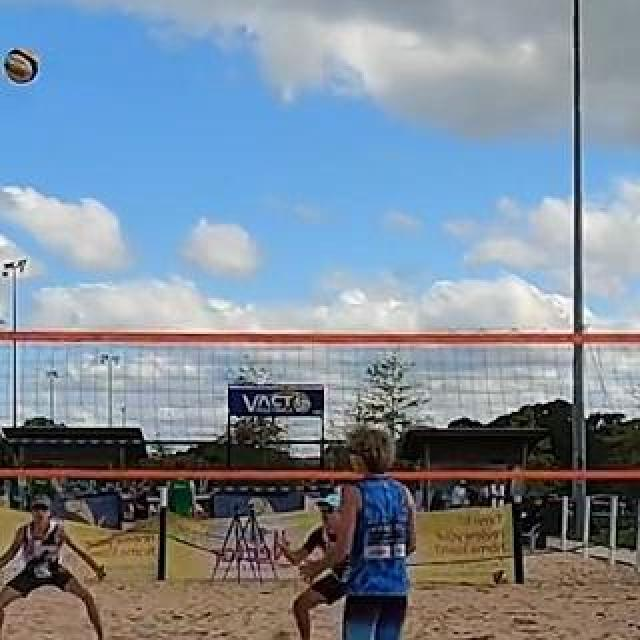volleyball: (4, 50, 38, 84), (493, 569, 509, 585)
